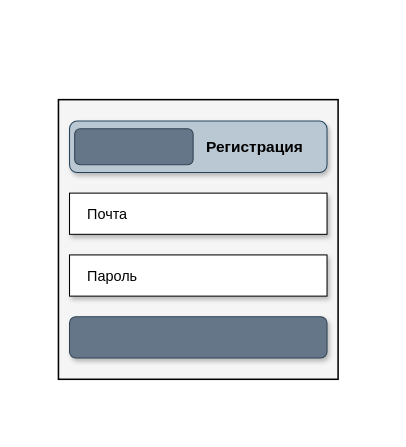
This 406x447 diagram has some shape labels left out. Here are the shapes that lost their labels. From the top down, the centre of each, then its label:
At pixel 133 146: "Вход".
At pixel 198 338: "Войти".
